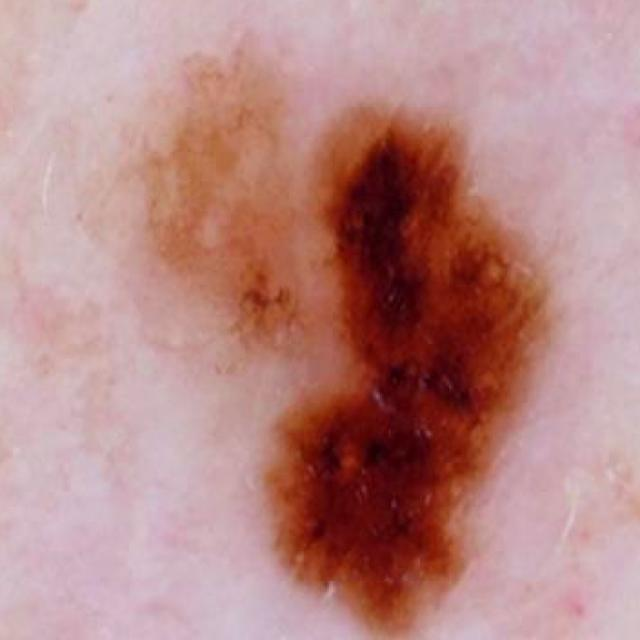MEL: (158, 0, 589, 640)
